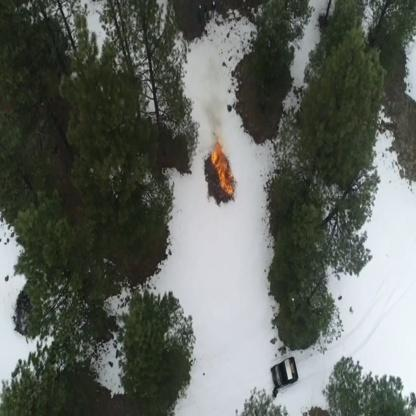Fire: (209, 139, 235, 197)
